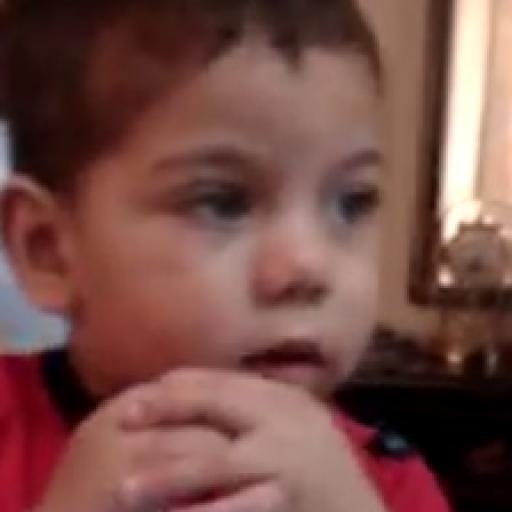Autism: (14, 22, 427, 461)
